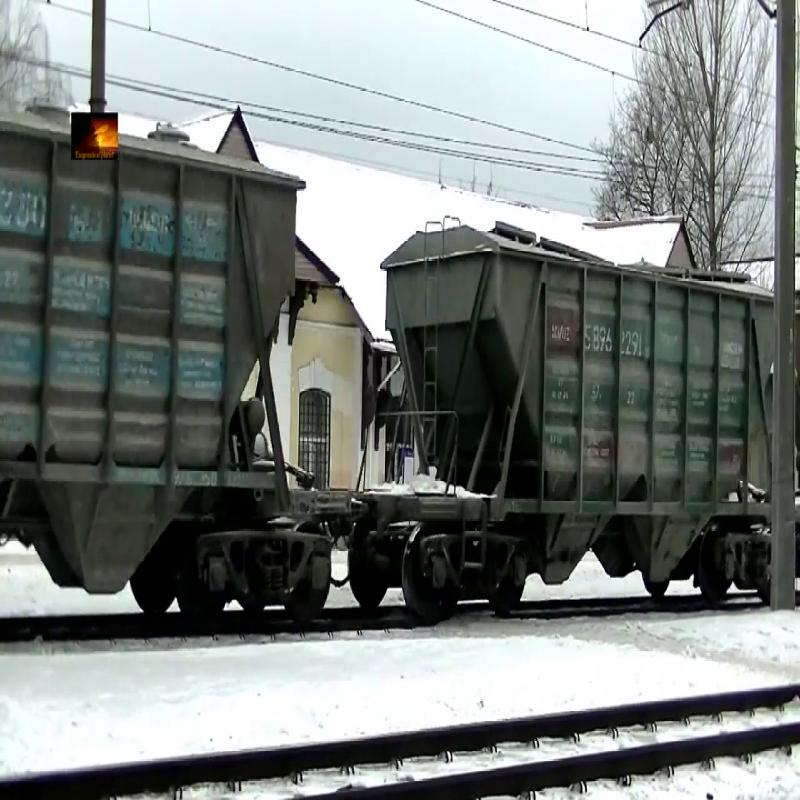train: (376, 226, 776, 603), (1, 120, 302, 614)
